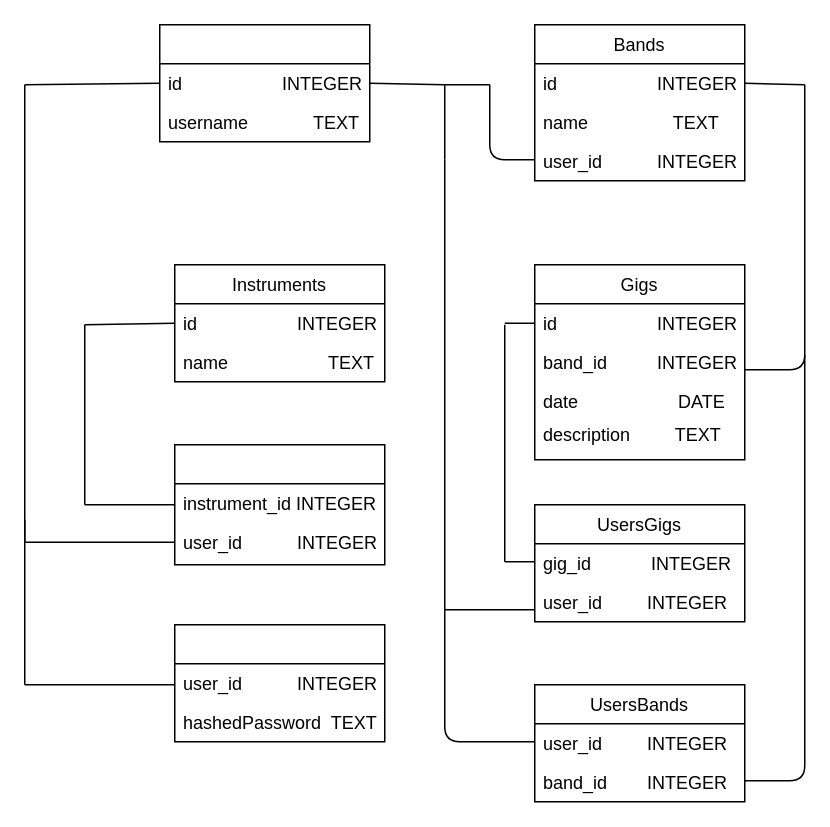
The diagram is 830 pixels wide and 827 high, and some of its shapes have lost their labels. The shapes that lost their labels are listed below. From the top down, each one's box as (x1, y1, x2, y2) in pixels, then its label:
(158, 23, 370, 142): Users
(173, 443, 385, 565): UsersInstruments
(173, 623, 385, 742): HashedPasswords
